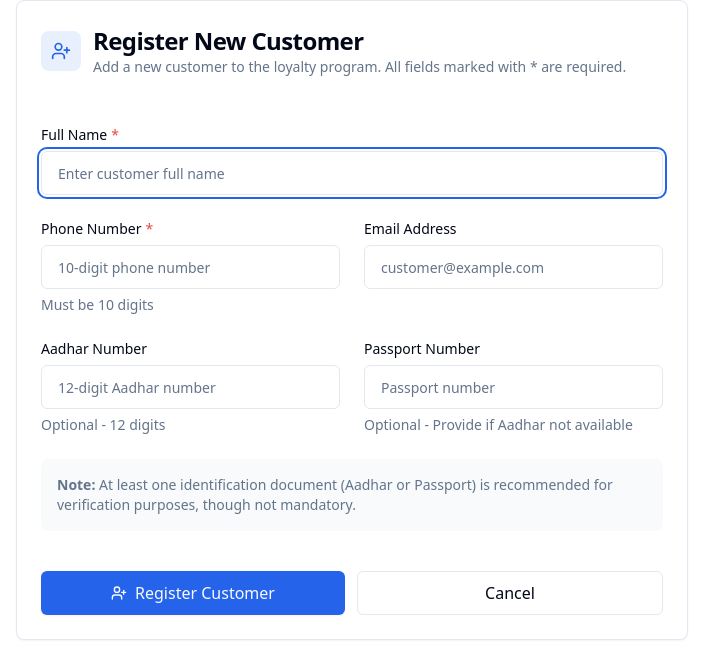
Test case: RegistrationForm › should format phone number input (digits only, max 10)
The image size is (705, 657).
In the field labelled "Phone Number*": (190, 267) [41,245,340,289], type "12345abc67890"
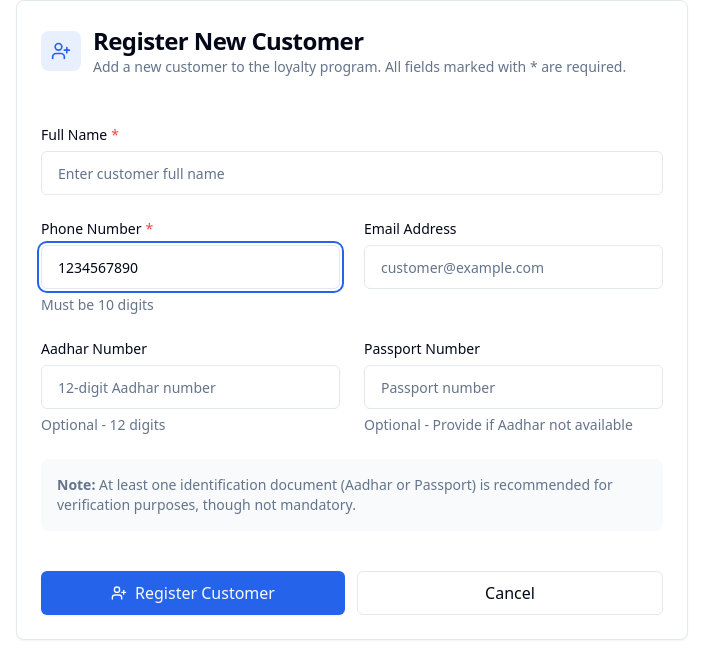
Expected: the field labelled "Phone Number*" holds "1234567890", [41,245,340,289]
